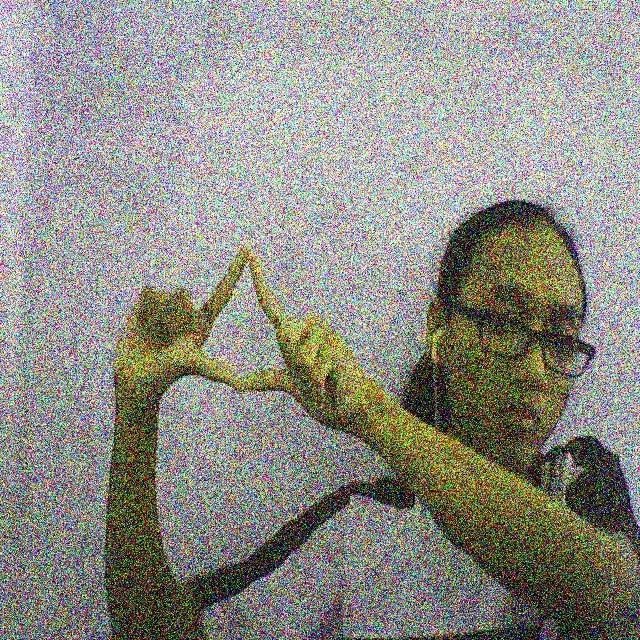A: (129, 242, 353, 404)
